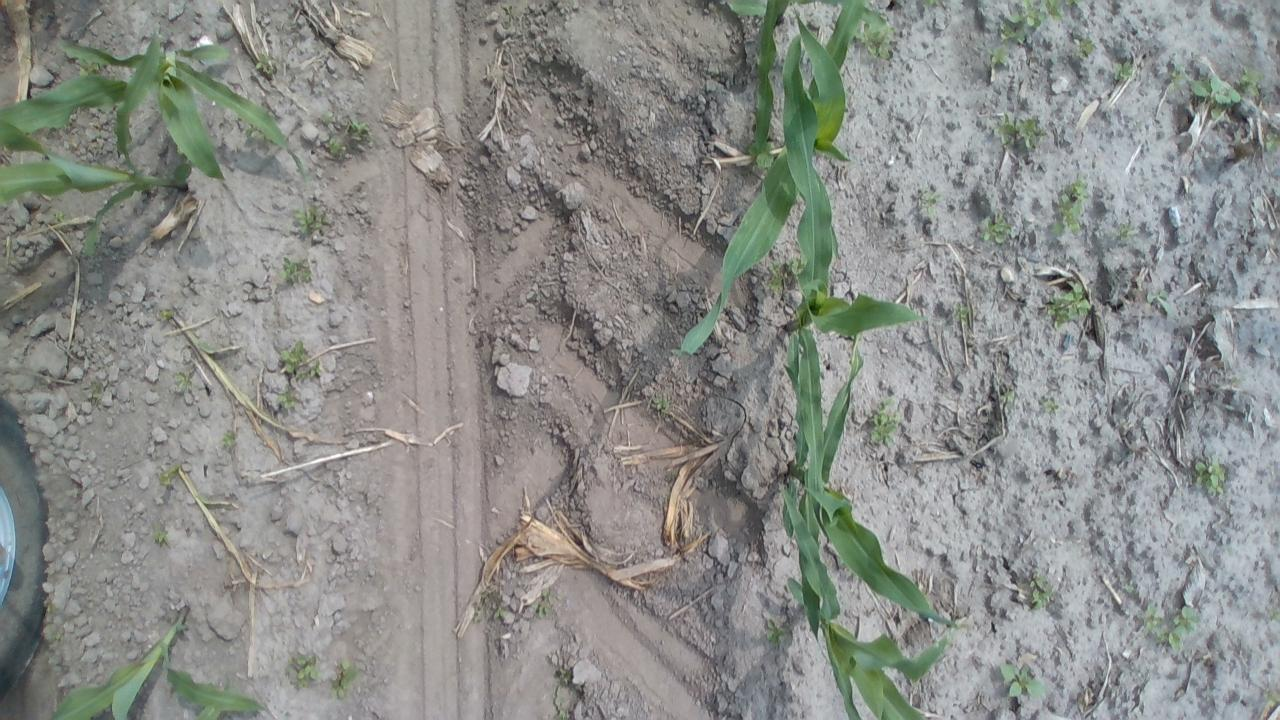Maize: (776, 31, 940, 513), (672, 0, 880, 371), (778, 336, 965, 646), (0, 29, 318, 189), (0, 20, 196, 258), (777, 484, 959, 720), (40, 599, 275, 720)
Weeds: (998, 0, 1078, 44), (1138, 600, 1202, 654), (994, 661, 1060, 706), (1187, 68, 1244, 118), (854, 7, 902, 62), (1052, 175, 1092, 240), (1042, 280, 1092, 330), (989, 111, 1050, 151), (863, 394, 904, 450), (549, 660, 587, 720), (278, 342, 327, 382), (768, 255, 811, 298), (1192, 452, 1230, 496), (292, 201, 332, 242), (975, 208, 1018, 246), (479, 584, 518, 625), (284, 649, 321, 688), (1026, 572, 1058, 613), (276, 254, 316, 286), (1142, 284, 1178, 318), (328, 658, 354, 704), (252, 52, 286, 83), (1104, 56, 1140, 85), (763, 618, 792, 654), (1236, 62, 1264, 99), (344, 120, 376, 152), (749, 138, 778, 172), (919, 188, 946, 224), (170, 368, 206, 394), (1071, 29, 1097, 65), (320, 136, 352, 165), (528, 586, 554, 618), (154, 468, 190, 491), (86, 375, 111, 408), (272, 390, 302, 415), (74, 56, 108, 78), (146, 522, 170, 553), (984, 41, 1010, 69), (1161, 58, 1185, 88), (1259, 127, 1280, 160), (1041, 396, 1068, 421), (217, 424, 242, 451), (1113, 220, 1140, 243), (49, 208, 74, 232), (1261, 688, 1280, 719), (318, 110, 340, 134), (650, 393, 670, 419), (951, 300, 970, 326), (1000, 388, 1021, 408), (1263, 605, 1280, 628), (1118, 578, 1136, 597), (919, 0, 952, 10)
